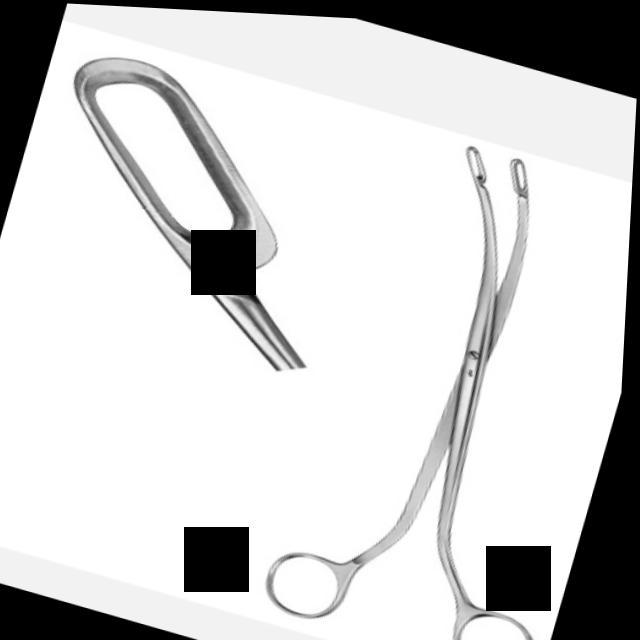Desjardin Forceps: (258, 113, 636, 640)
